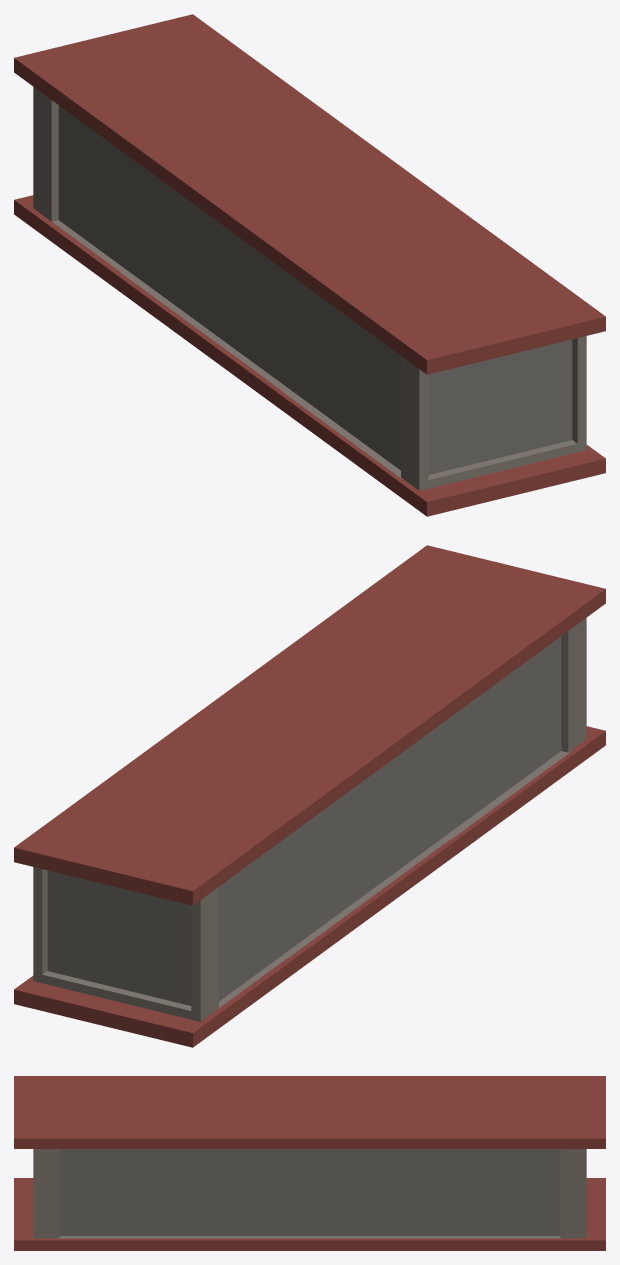
File: girdir 2m #3.fbx
The picture shows the model from 3 angles, top to bottom: view 1: azimuth 30°, elevation 25°; view 2: azimuth 150°, elevation 25°; view 3: azimuth 270°, elevation 25°; orthographic projection. The views are drawn at different scales.
Parts seen in each view (by area): view 1: Cube.001; view 2: Cube.001; view 3: Cube.001.
Boxes of the visible parts, x1=… form: Cube.001: x1=14, y1=14, x2=605, y2=516; Cube.001: x1=14, y1=545, x2=605, y2=1047; Cube.001: x1=14, y1=1076, x2=605, y2=1250.
Size of the model in its own units: 0.5 by 0.418 by 2.
Materials: 1 (1 with a texture image).
